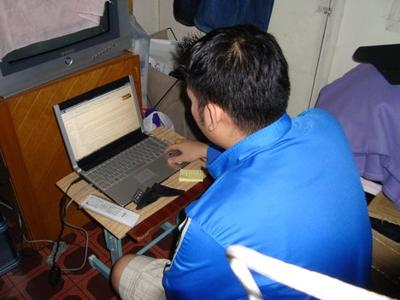person: (109, 23, 374, 300)
